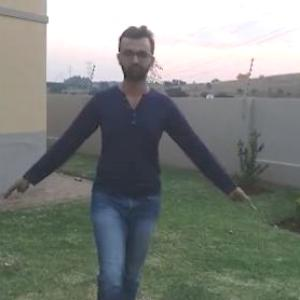land: (23, 30, 238, 299)
